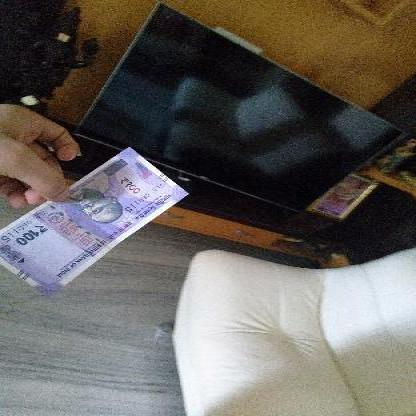New100Front: (0, 145, 186, 288)
